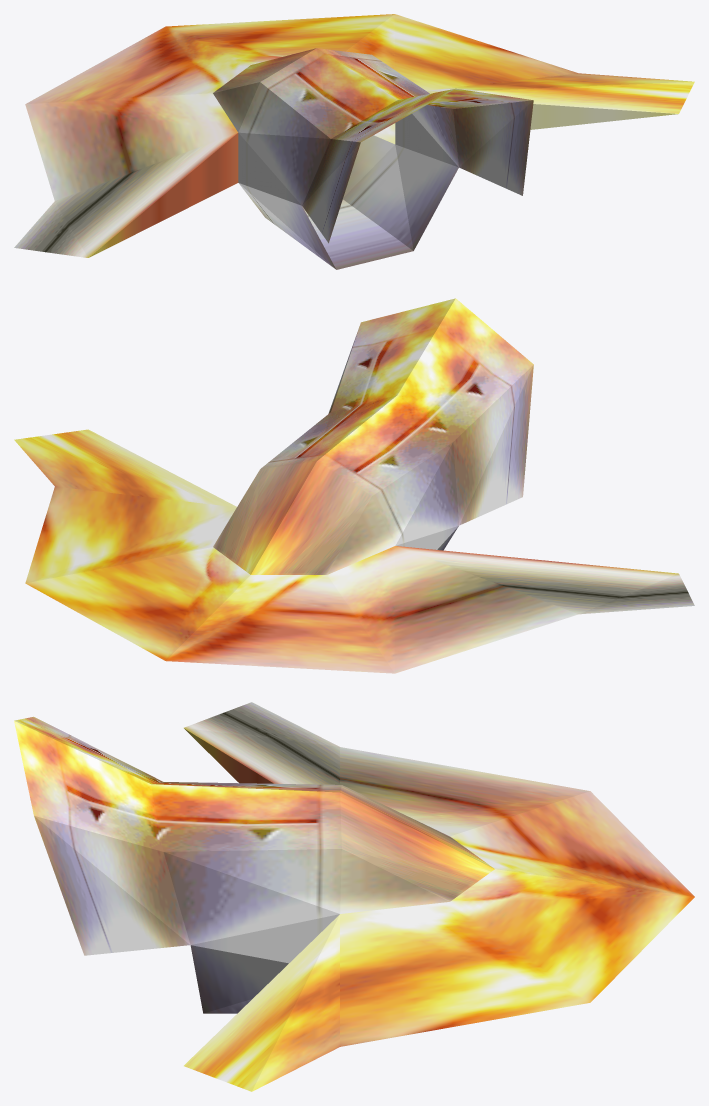
The model's file is twinblade102_3.obj.
3 views of the same model, one above another, from view 1: azimuth 30°, elevation 25°; view 2: azimuth 150°, elevation 25°; view 3: azimuth 270°, elevation 25° (orthographic). The views are drawn at different scales.
Parts seen in each view (by area): view 1: MDL_cwdhkn02_3r; view 2: MDL_cwdhkn02_3r; view 3: MDL_cwdhkn02_3r.
Boxes of the visible parts, x1,y1,x2,y2 form: MDL_cwdhkn02_3r: (14, 14, 694, 269); MDL_cwdhkn02_3r: (14, 298, 694, 673); MDL_cwdhkn02_3r: (14, 702, 694, 1091).
Size of the model in its own units: 0.64 by 0.2074 by 0.4725.
